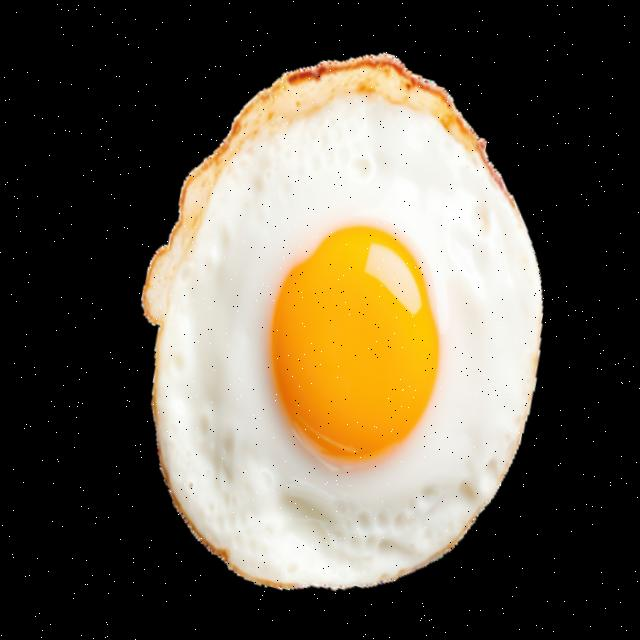Egg: (139, 51, 538, 585)
